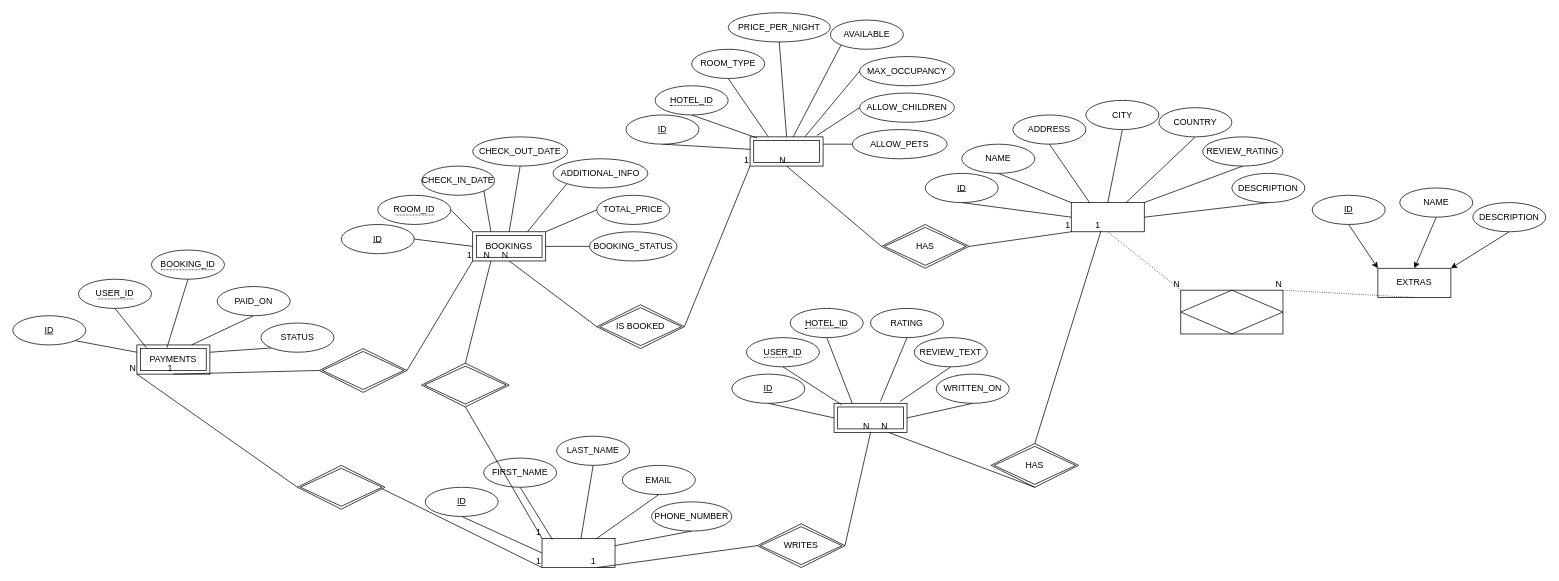
Image size: 1559x581. Some labels were removed from this diagram. Each missing label, with the centre of its shape:
"BOOKS" goes at pixel 465 384.
"HOTELS" goes at pixel 1107 217.
"HOTELS EXTRAS" goes at pixel 1231 311.
"PAID FOR" goes at pixel 363 370.
"PAYS" goes at pixel 341 487.
"REVIEWS" goes at pixel 870 418.
"ROOMS" goes at pixel 786 151.
"USERS" goes at pixel 578 553.
